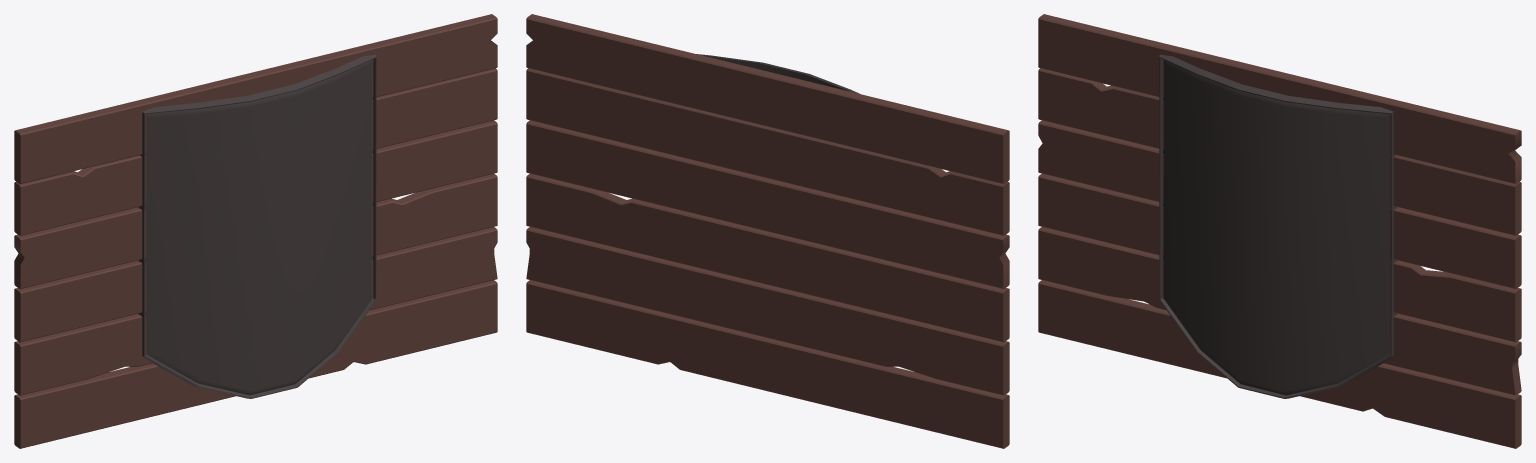
Rendered from Wall_Sign_2.fbx.
3 renders of one model, left to right at view 1: azimuth 30°, elevation 25°; view 2: azimuth 150°, elevation 25°; view 3: azimuth 330°, elevation 25°, orthographic.
Visible parts, largest first — view 1: Wall_Sign_2; view 2: Wall_Sign_2; view 3: Wall_Sign_2.
Part boxes in pixels (bbox=[...]): Wall_Sign_2: bbox=[14, 14, 497, 448]; Wall_Sign_2: bbox=[526, 14, 1009, 448]; Wall_Sign_2: bbox=[1038, 14, 1521, 448].
Size of the model in its own units: 0.7563 by 0.4771 by 0.059.
